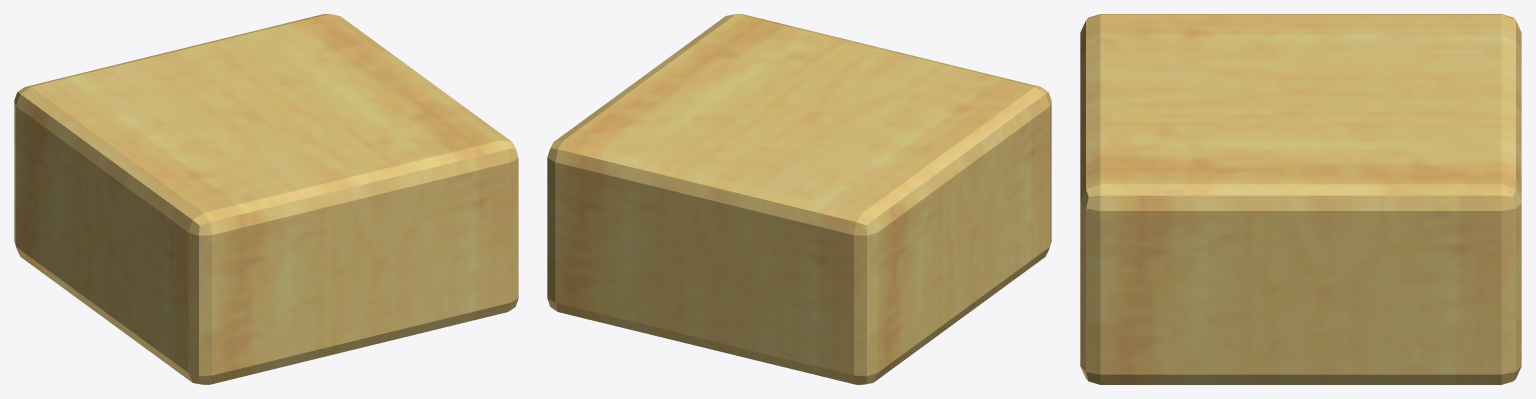
Rendered from HalfCubeSmall.fbx.
The picture shows the model from 3 angles, left to right: view 1: azimuth 30°, elevation 25°; view 2: azimuth 150°, elevation 25°; view 3: azimuth 270°, elevation 25°; orthographic projection. The views are drawn at different scales.
Parts seen in each view (by area): view 1: Cube.009; view 2: Cube.009; view 3: Cube.009.
Part boxes in pixels (x1,y1,x2,y2): Cube.009: [14, 14, 518, 384]; Cube.009: [547, 14, 1051, 384]; Cube.009: [1080, 14, 1521, 384].
Size of the model in its own units: 200 by 100 by 200.
